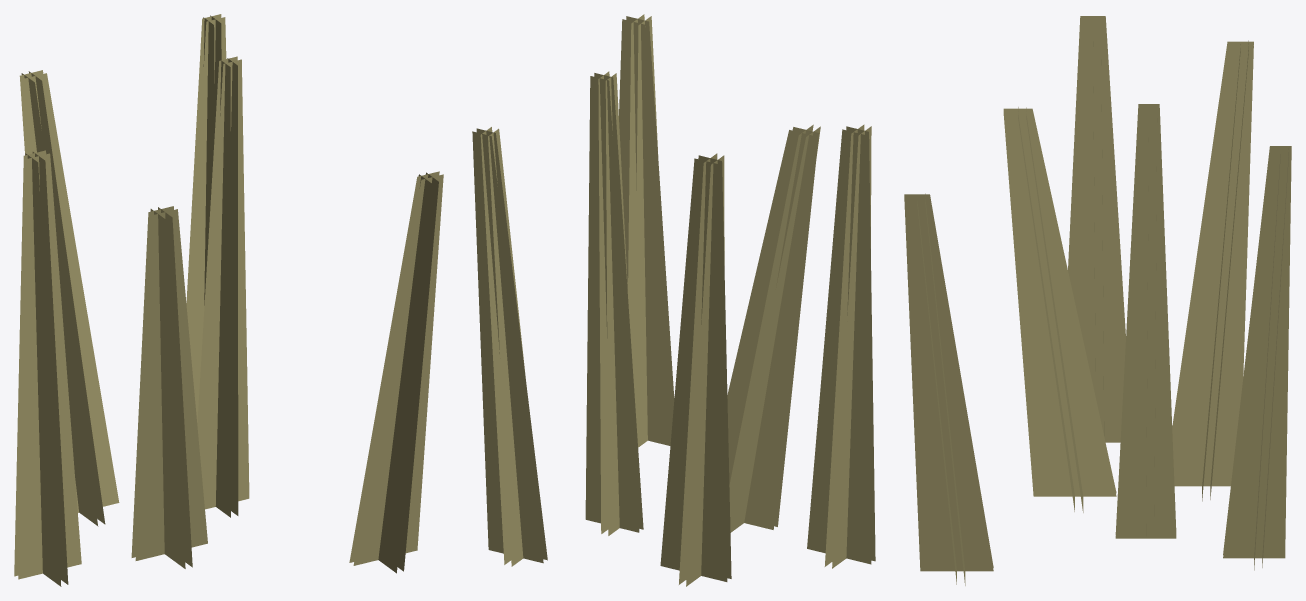
File: grass_tuft_dry.glb
3 views of the same model, side by side, from view 1: azimuth 30°, elevation 25°; view 2: azimuth 150°, elevation 25°; view 3: azimuth 270°, elevation 25° (orthographic). The views are drawn at different scales.
Parts seen in each view (by area): view 1: grass_tuft_dry; view 2: grass_tuft_dry; view 3: grass_tuft_dry.
Boxes of the visible parts, x1,y1,x2,y2 form: grass_tuft_dry: (14,14,443,586); grass_tuft_dry: (472,14,875,586); grass_tuft_dry: (904,16,1291,585).
Bounding box in the file's own units: 0.2346 × 0.2938 × 0.2362.
